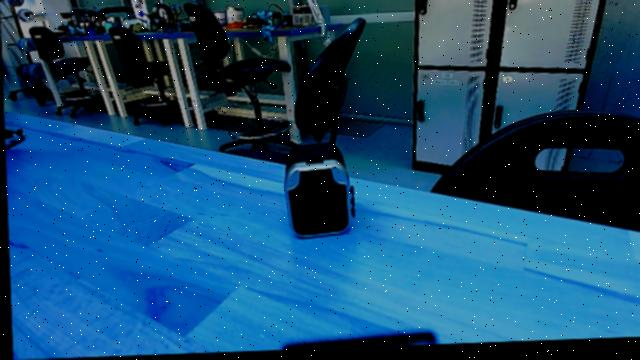adapter: (277, 146, 355, 244)
